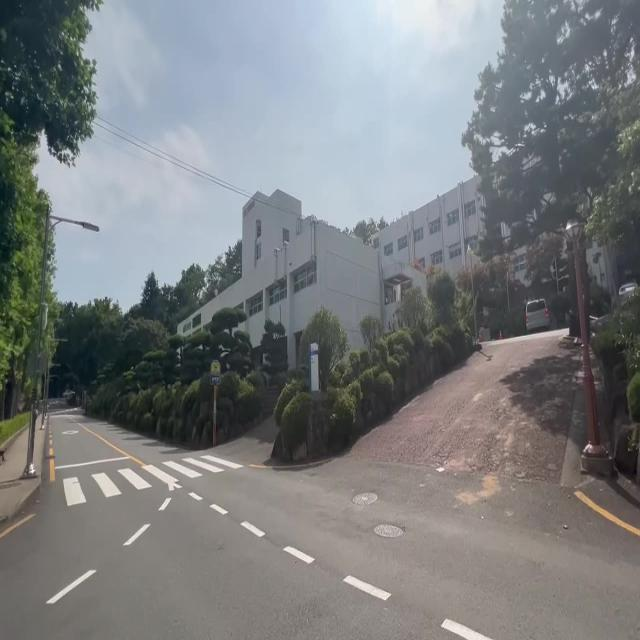building: (174, 177, 383, 333)
